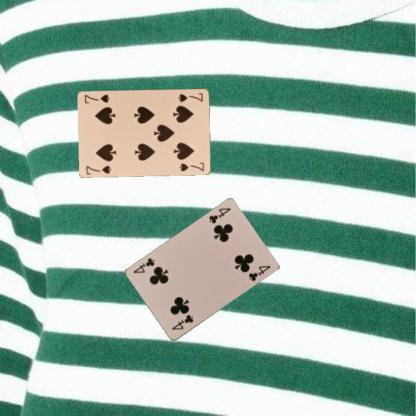4c: (206, 205, 232, 225), (168, 312, 194, 331)
7s: (176, 90, 204, 103), (84, 163, 112, 176)
